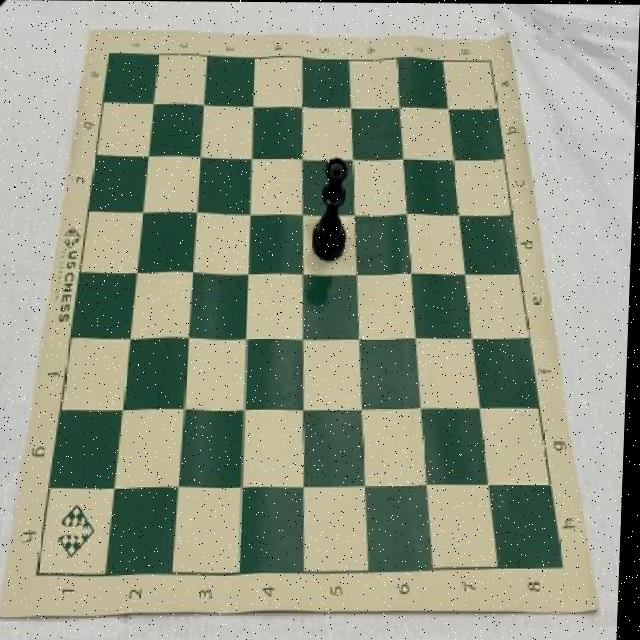black-pawn: (312, 156, 353, 263)
